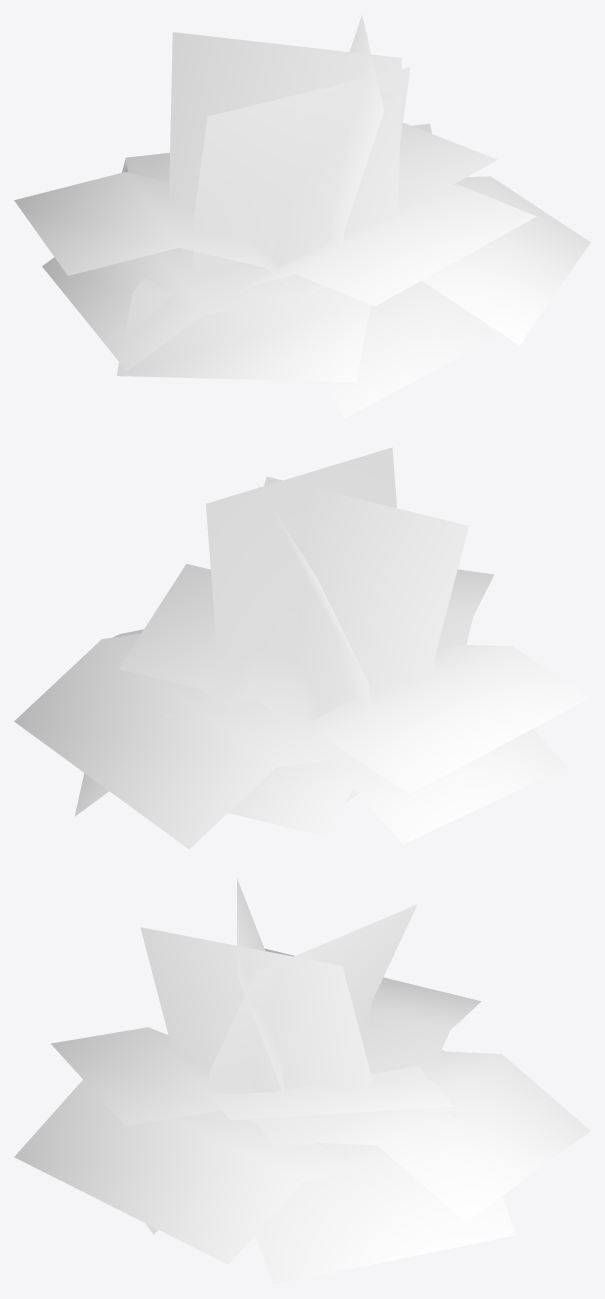
File: SM_Env_Grass_Bush_01.glb
The picture shows the model from 3 angles, top to bottom: view 1: azimuth 30°, elevation 25°; view 2: azimuth 150°, elevation 25°; view 3: azimuth 270°, elevation 25°; orthographic projection. The views are drawn at different scales.
Parts seen in each view (by area): view 1: SM_Env_Grass_Bush_01_LOD0; view 2: SM_Env_Grass_Bush_01_LOD0; view 3: SM_Env_Grass_Bush_01_LOD0.
Boxes of the visible parts, box(x1,y1,x2,y2) form: SM_Env_Grass_Bush_01_LOD0: box(14, 15, 590, 418); SM_Env_Grass_Bush_01_LOD0: box(14, 447, 590, 849); SM_Env_Grass_Bush_01_LOD0: box(14, 878, 590, 1284).
Size of what is drawn, in the model's own units: 2.28 by 1.2 by 2.31.
Materials: 1 (1 with a texture image).
